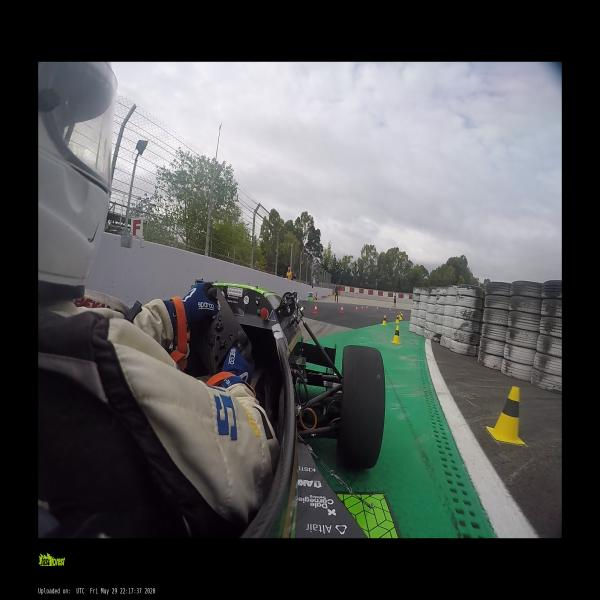orange_cone: (313, 304, 318, 315), (340, 306, 343, 314), (354, 306, 358, 312), (366, 305, 368, 311), (361, 306, 363, 311)
yellow_cone: (486, 386, 527, 447), (390, 326, 401, 345), (382, 315, 386, 326), (395, 315, 399, 323), (400, 311, 403, 316), (399, 311, 401, 317), (400, 315, 402, 320)
